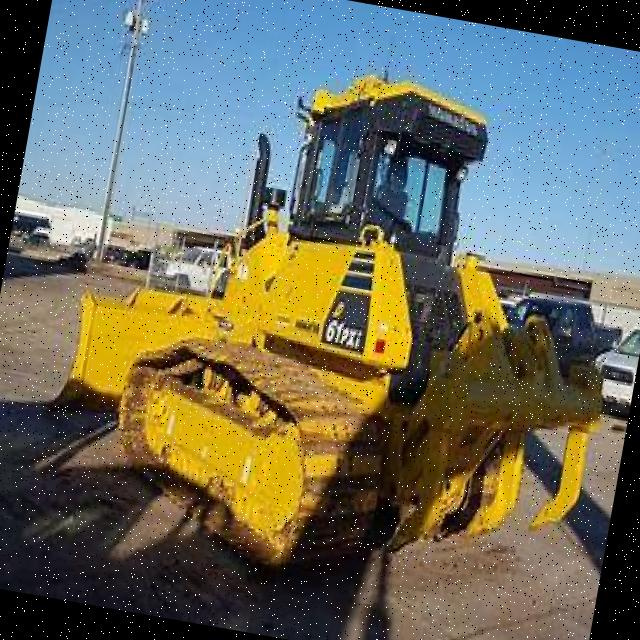Bulldozer: (17, 2, 640, 628)
